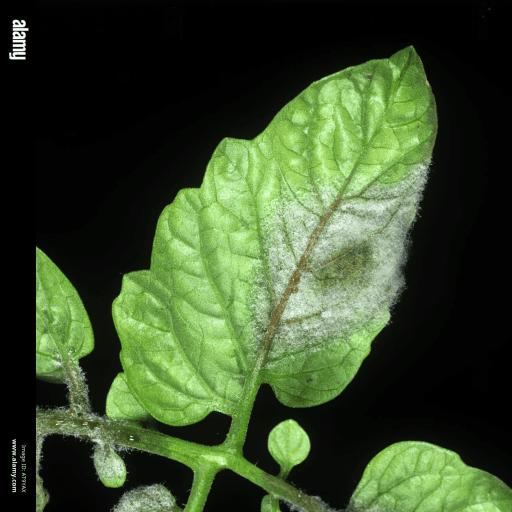Late Blight: (107, 46, 439, 426)
